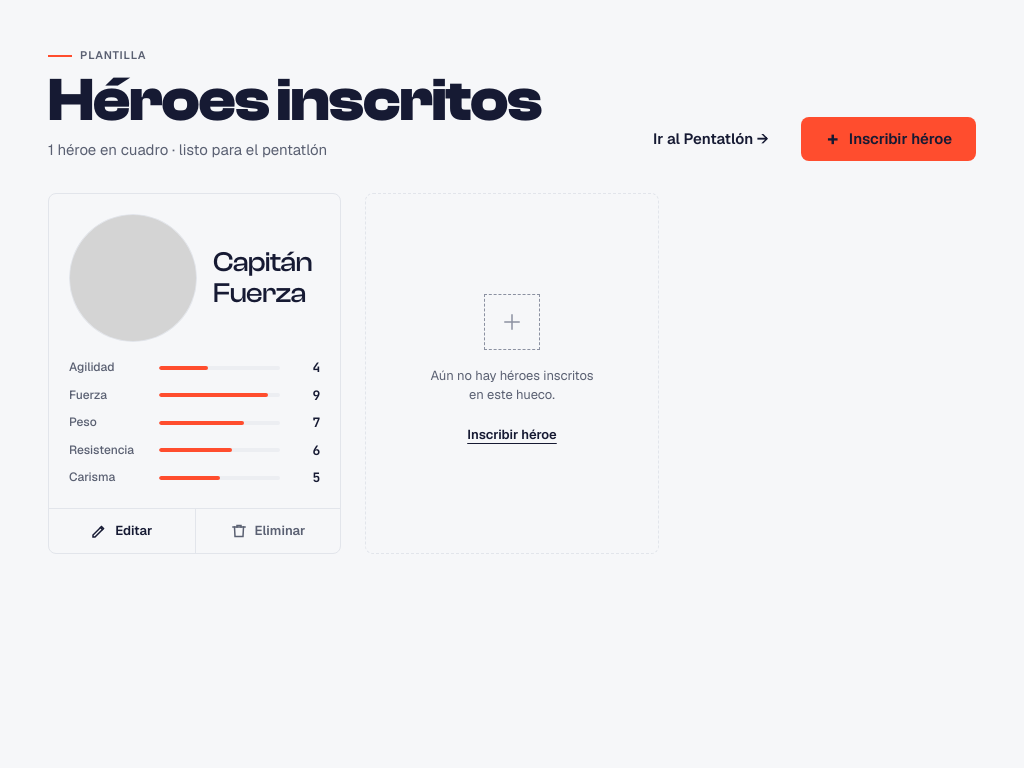
it: HeroesPage — populated › opens the form dialog when the header CTA is clicked
Click the button "+ Inscribir héroe": (888, 139) [801,117,976,161]
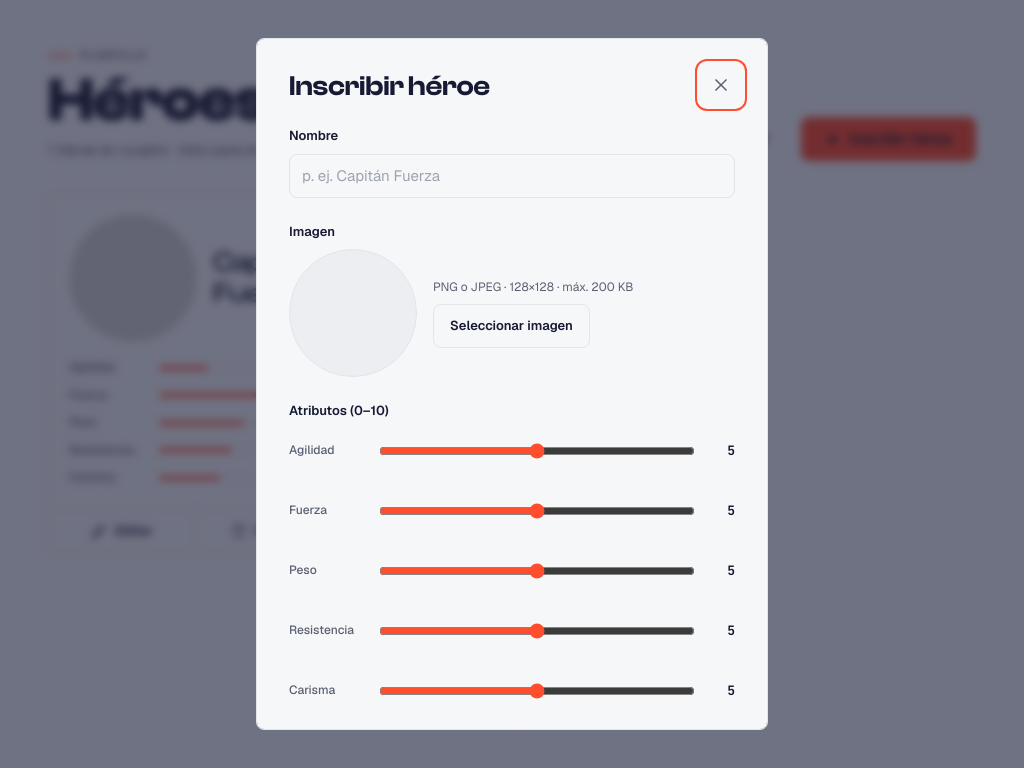
Result: the dialog is shown at [256,38,768,730]
